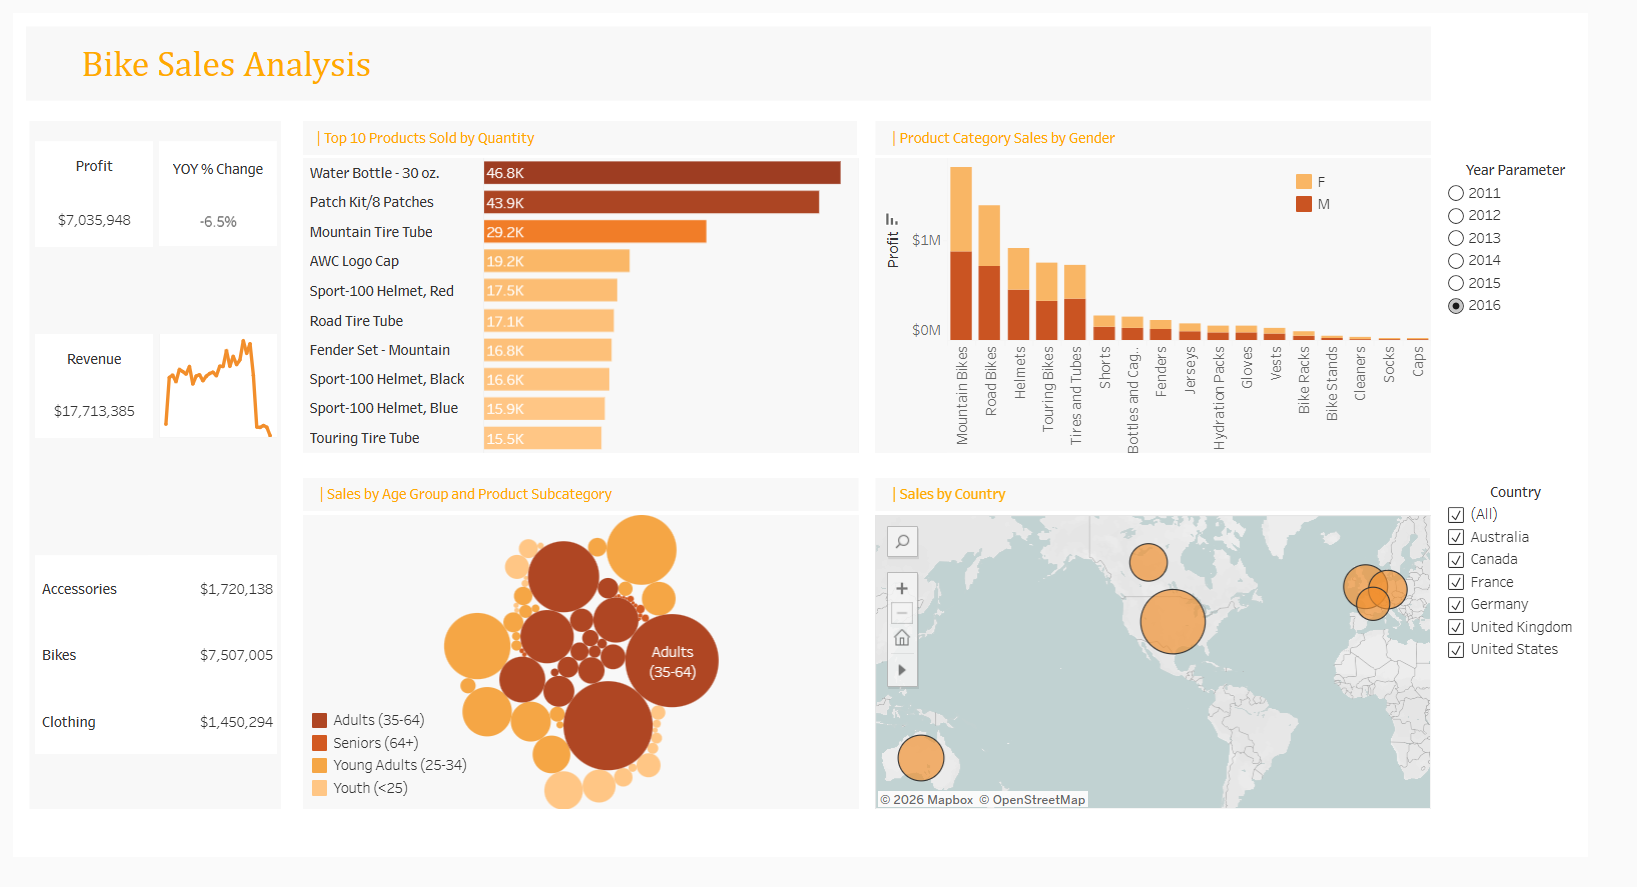

What the dashboard file says about the page in this screenshot:
{"tool":"tableau","page":{"name":"Sales Dashboard","canvas":[1400,750],"ordinal":0},"visuals":[{"type":"title","box":[8,8,1257,74]},{"type":"blank","box":[8,82,1257,660]},{"type":"worksheet","title":"Top 10 Products","mark":"Bar","rows":["Product"],"box":[257.7,96.4,494.3,294.9]},{"type":"worksheet","title":"Sub-Category ","mark":"Automatic","rows":["Profit"],"cols":["Sub_Category"],"box":[767.2,96.4,494.3,294.9]},{"type":"worksheet","title":"Profit Card","mark":"Automatic","cols":["Calculation_1741204227482750977"],"box":[20,114,105,94]},{"type":"worksheet","title":"YOY % change","mark":"Automatic","cols":["Calculation_1741204227486285831"],"box":[130,114,105,93]},{"type":"parameter","param":"[Parameters].[Parameter 1]","box":[1272,131,128,193]},{"type":"legend","title":"Sub-Category ","param":"[federated.1og45891pi2o6715y5zxj0riisuu].[none:Customer_Gender:nk]","box":[1138.1,140.5,118.3,59.9]},{"type":"worksheet","title":"Revenue Card","mark":"Automatic","cols":["Calculation_1741204227487277064"],"box":[20,285,105,93]},{"type":"worksheet","title":"Revenue Line Chart","mark":"Automatic","rows":["Revenue"],"cols":["Date"],"box":[130,285,105,93]},{"type":"worksheet","title":"Age Group bubble chart ","mark":"Circle","box":[257.7,412.9,494.3,294.9]},{"type":"worksheet","title":"Map","mark":"Automatic","box":[767.2,412.9,494.3,294.9]},{"type":"filter","title":"Age Group bubble chart ","param":"[federated.1og45891pi2o6715y5zxj0riisuu].[none:Country:nk]","box":[1272,417,128,193]},{"type":"worksheet","title":"Cost Cards","mark":"Automatic","rows":["Product_Category"],"box":[20,482,215,177]},{"type":"legend","title":"Age Group bubble chart ","param":"[federated.1og45891pi2o6715y5zxj0riisuu].[none:Age_Group:nk]","box":[262.8,618.9,149.5,82.4]}]}

Visuals, with their boxes in screenshot pixels (x1, y1, x2, y2), scaled from the page's 1400x750 canvas onto the 1637x887 screenshot:
title: bbox(9, 9, 1479, 97)
blank: bbox(9, 97, 1479, 878)
"Top 10 Products" worksheet (Bar marks): bbox(301, 114, 879, 463)
"Sub-Category " worksheet: bbox(897, 114, 1475, 463)
"Profit Card" worksheet: bbox(23, 135, 146, 246)
"YOY % change" worksheet: bbox(152, 135, 275, 245)
parameter: bbox(1487, 155, 1636, 383)
"Sub-Category " legend: bbox(1331, 166, 1469, 237)
"Revenue Card" worksheet: bbox(23, 337, 146, 447)
"Revenue Line Chart" worksheet: bbox(152, 337, 275, 447)
"Age Group bubble chart " worksheet (Circle marks): bbox(301, 488, 879, 837)
"Map" worksheet: bbox(897, 488, 1475, 837)
"Age Group bubble chart " filter: bbox(1487, 493, 1636, 721)
"Cost Cards" worksheet: bbox(23, 570, 275, 779)
"Age Group bubble chart " legend: bbox(307, 732, 482, 829)
